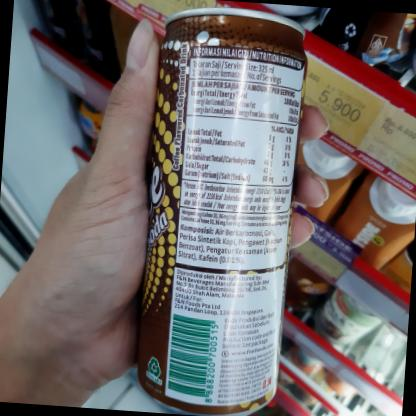alumunium_can: (137, 0, 307, 416)
